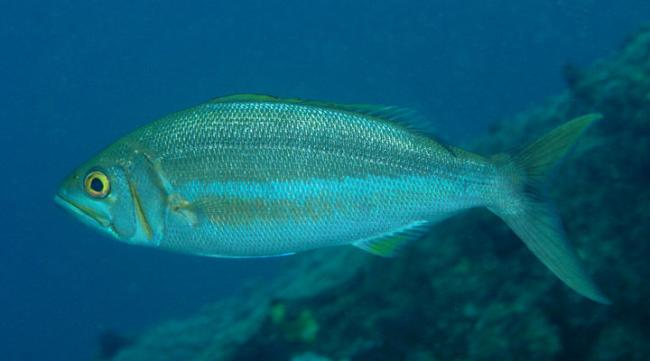fish: (52, 94, 608, 307)
